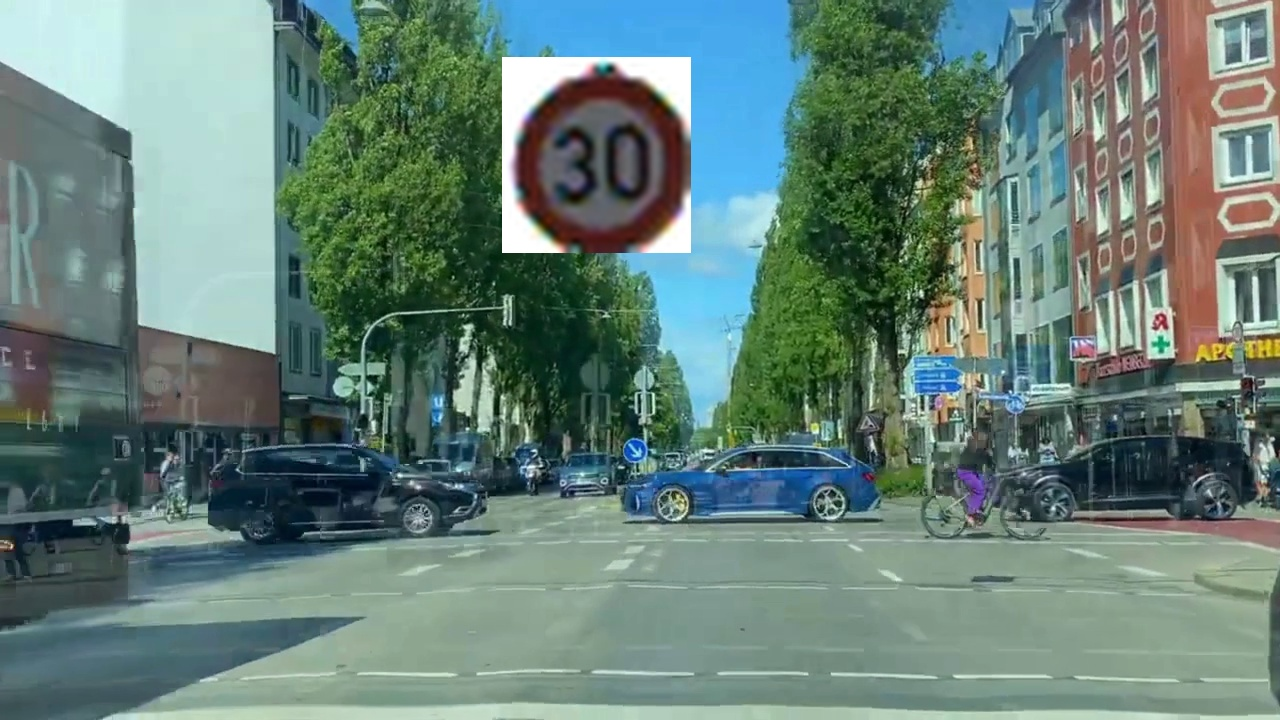Speed 30: (502, 57, 691, 253)
